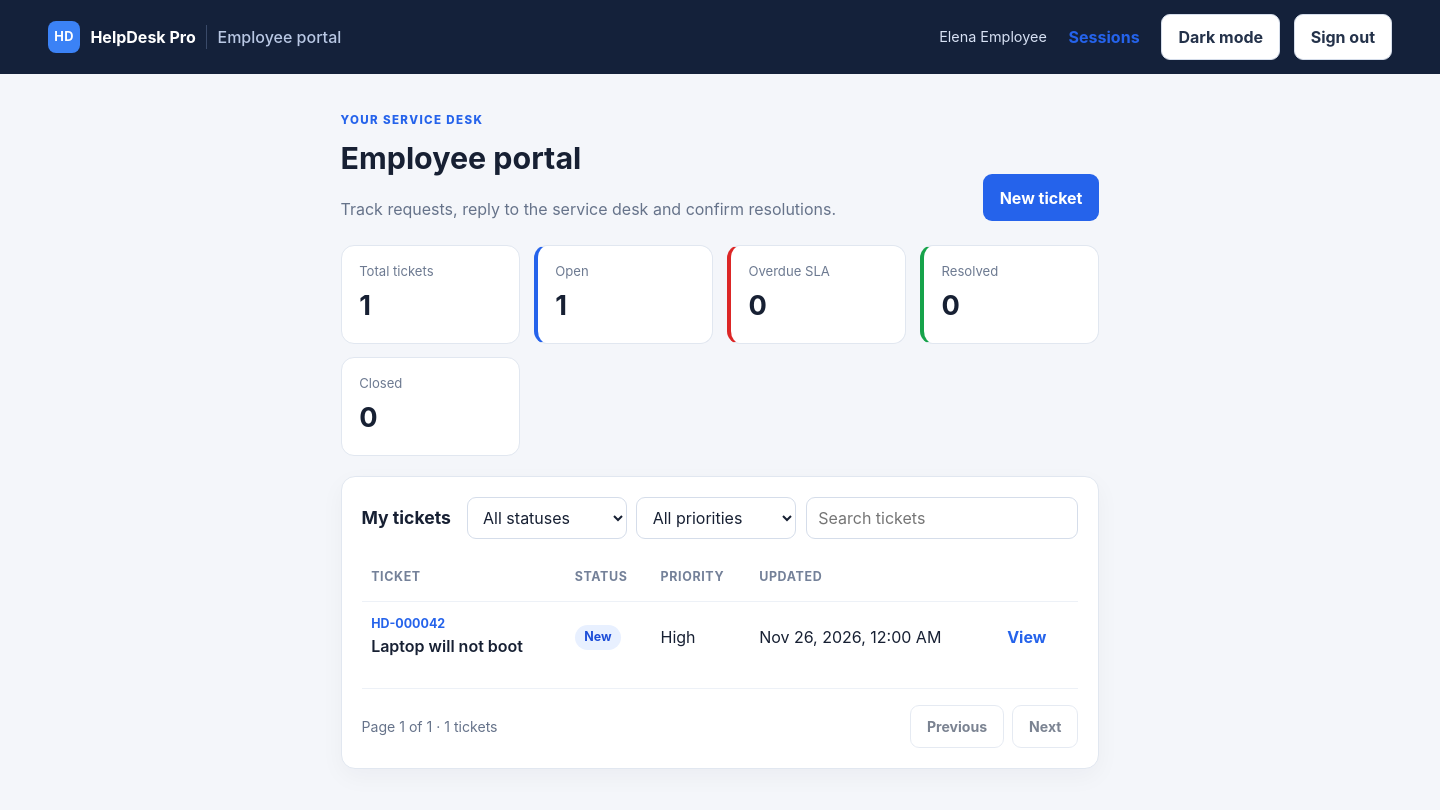
employee portal › keeps ticket detail renderable after confirming a resolution
The width and height of the screenshot is (1440, 810).
Check: the text "HD-000042" is shown, box [371,616,445,631]
Click the button "View": (1027, 637) [999,619,1055,654]
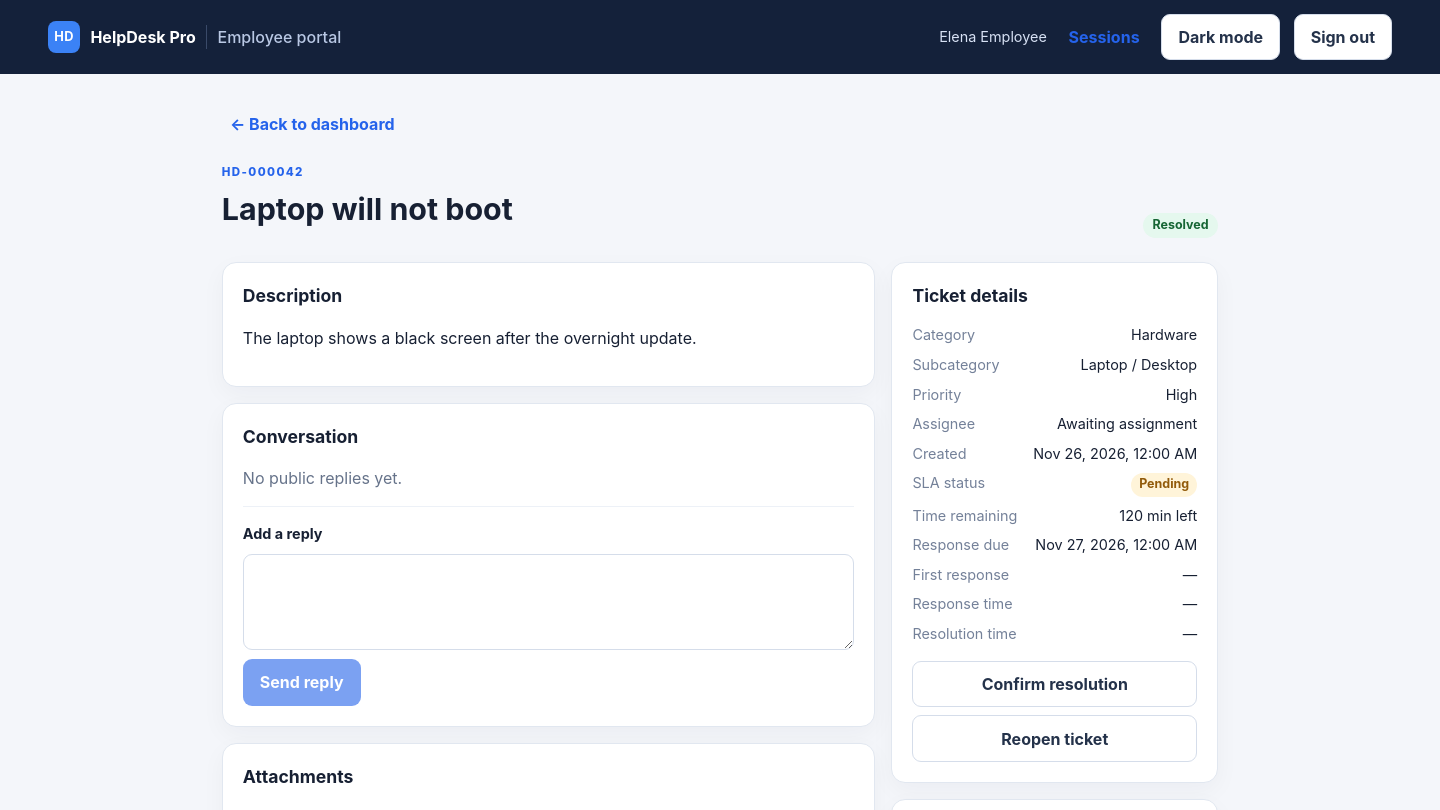
Click the button "Confirm resolution": (1055, 684) [912,660,1197,707]
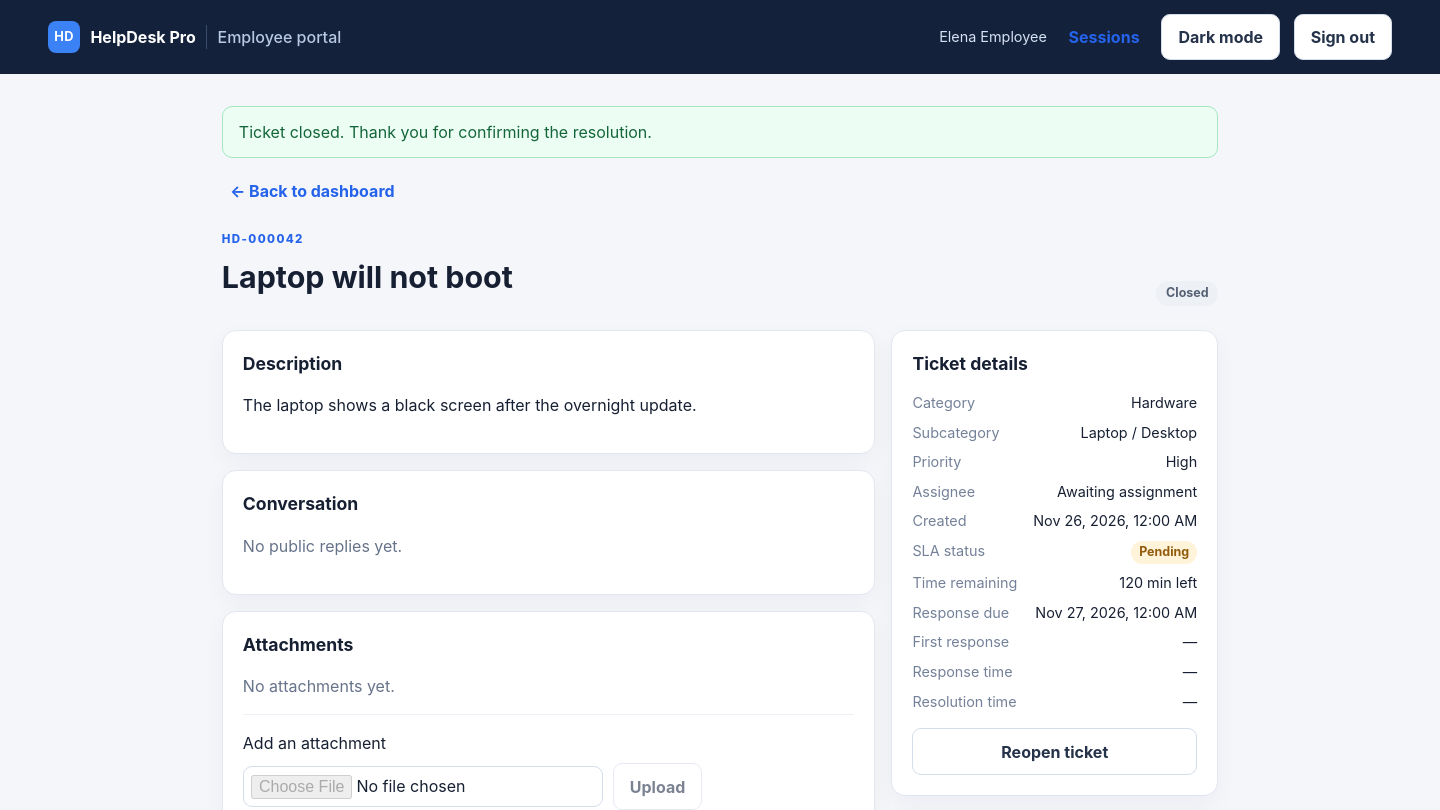
Check: the heading "Laptop will not boot" is shown, box [222,255,513,300]
Check: the text "Closed" is shown, box [1156,281,1218,306]
Check: the button "Confirm resolution" is gone
